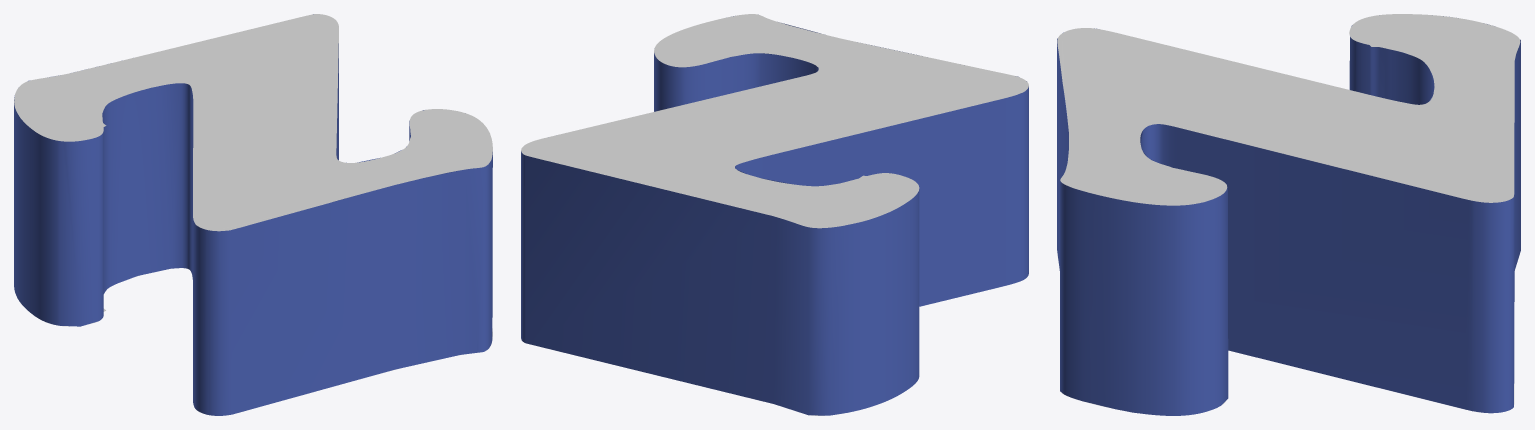
3 views of the same model, side by side, from view 1: azimuth 30°, elevation 25°; view 2: azimuth 150°, elevation 25°; view 3: azimuth 270°, elevation 25° (orthographic). The views are drawn at different scales.
Visible parts, largest first — view 1: Z; view 2: Z; view 3: Z.
Part boxes in pixels (x1,y1,x2,y2): Z: (14, 14, 492, 415); Z: (521, 14, 1028, 415); Z: (1057, 14, 1520, 415).
Bounding box in the file's own units: 1.44 × 0.7362 × 1.47.
